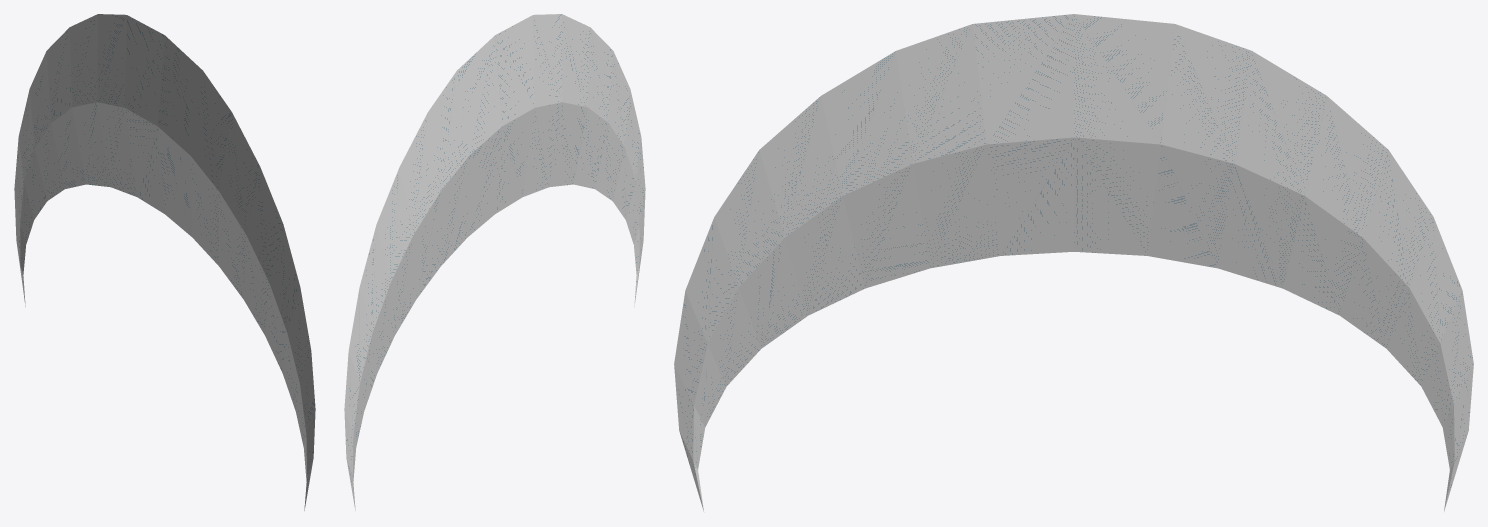
Rendered from slash_3D_mod_01.fbx.
The picture shows the model from 3 angles, left to right: view 1: azimuth 30°, elevation 25°; view 2: azimuth 150°, elevation 25°; view 3: azimuth 270°, elevation 25°; orthographic projection. The views are drawn at different scales.
Visible parts, largest first — view 1: Cube; view 2: Cube; view 3: Cube.
Part boxes in pixels (x1,y1,x2,y2): Cube: (14, 14, 315, 510); Cube: (344, 14, 645, 510); Cube: (674, 14, 1473, 511).
Bounding box in the file's own units: 0.0541 × 1.99 × 1.37.
